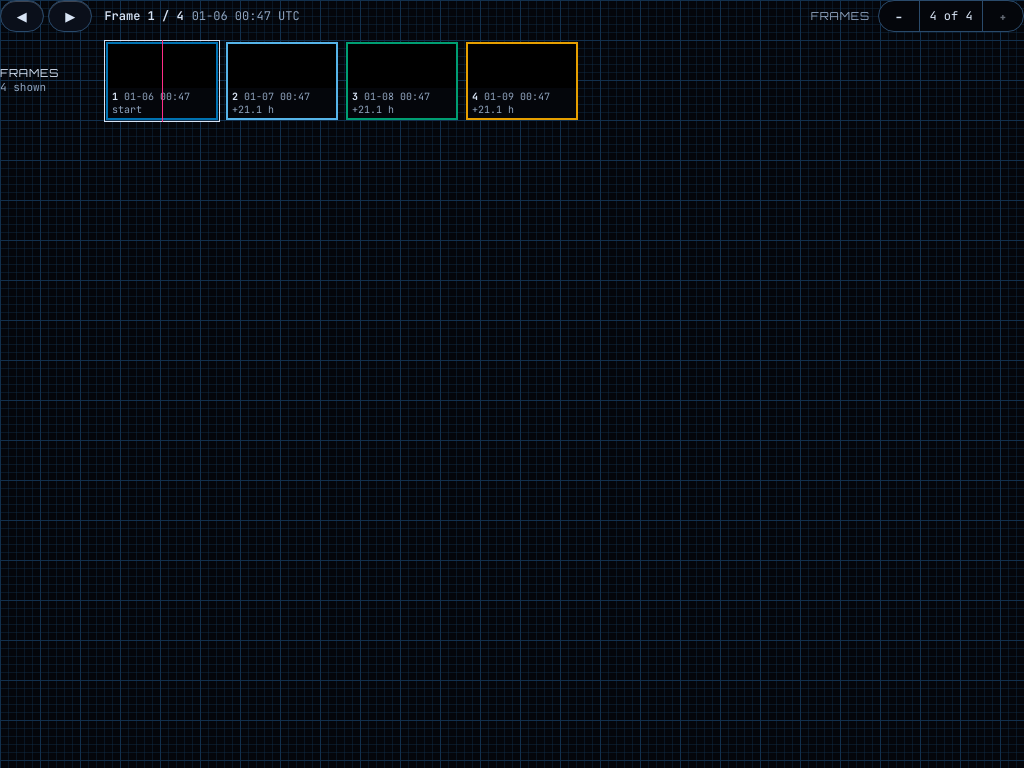
Test: Timeline Blink range and speed › "+" at the limit › says all frames are shown when IRSA is up, and Escape closes it
Click the button named "Show more frames" at (1003, 16), box [983,1,1023,31]
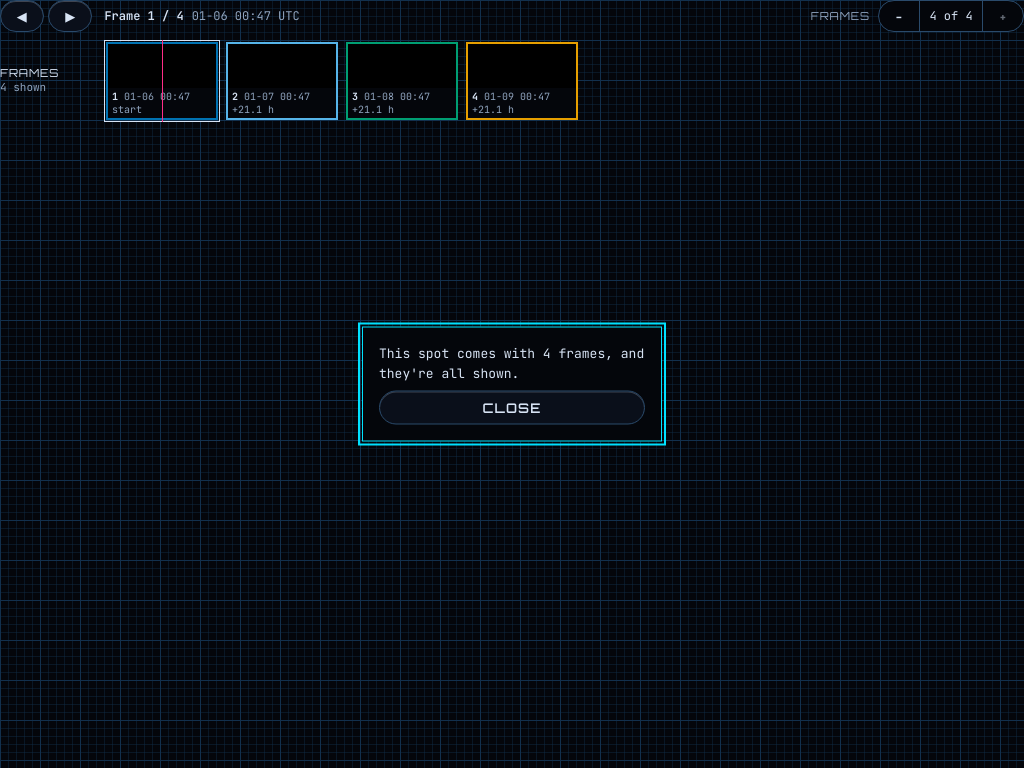
Now the text "This spot comes with 4 frames, and they're all shown." is shown, box [379,344,645,382]
Press Escape in the dialog named "No more frames", box [362,326,662,442]
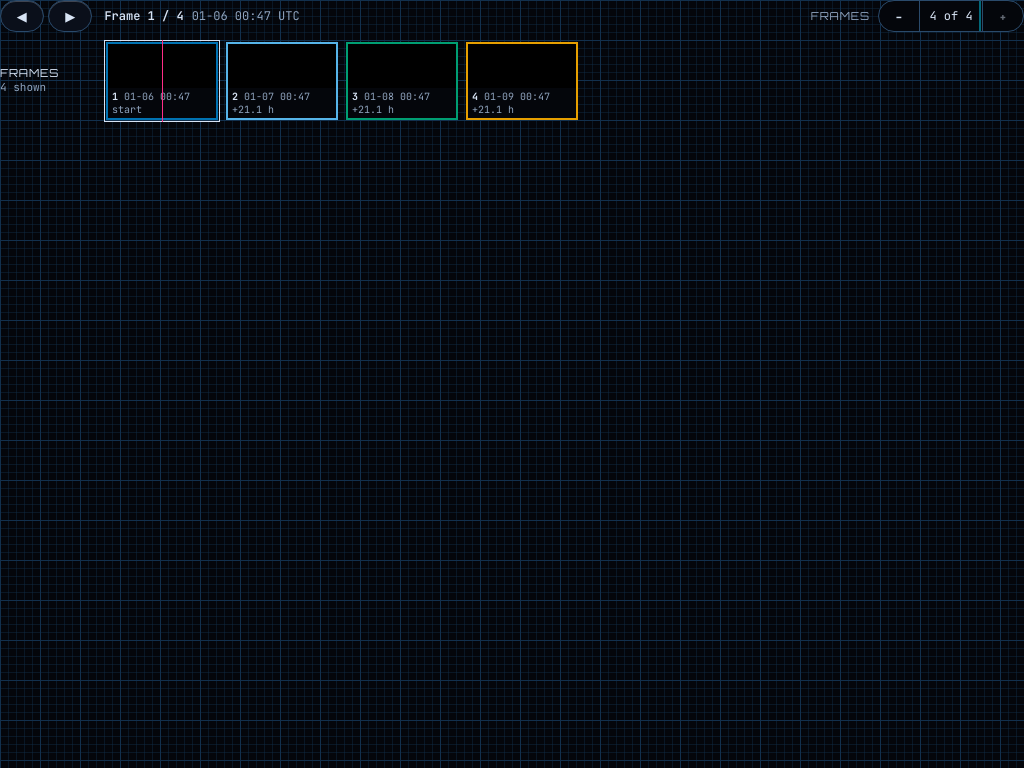
Now the dialog is gone
